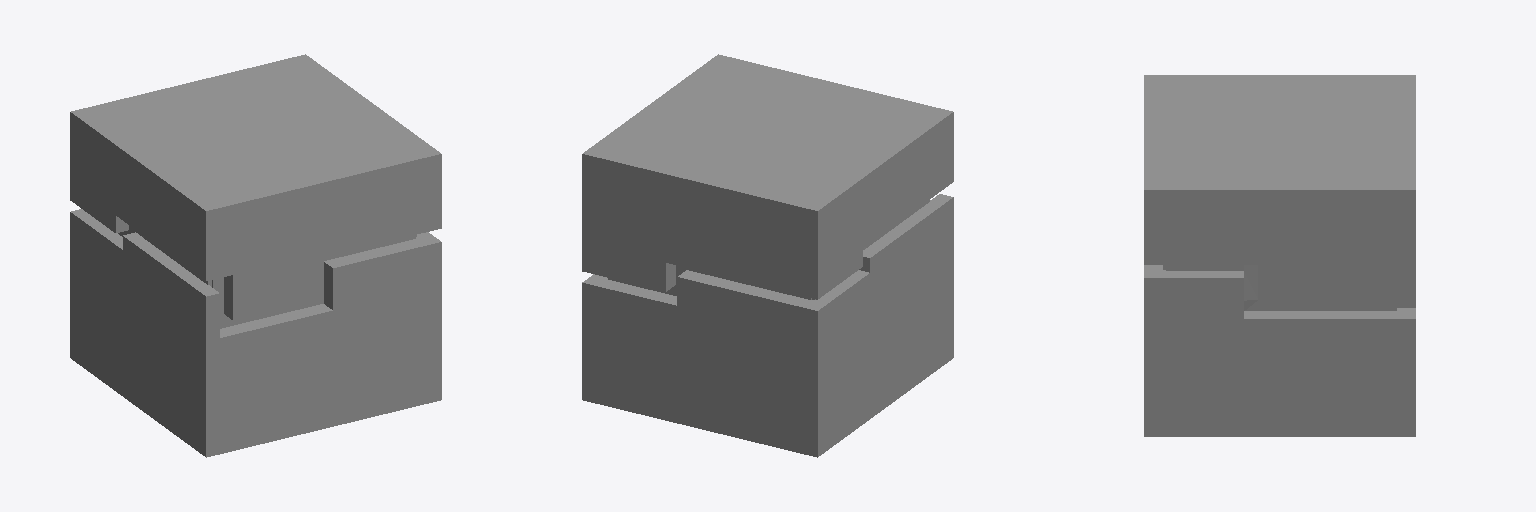
Rendered from magmaticstone.obj.
3 renders of one model, left to right at view 1: azimuth 30°, elevation 25°; view 2: azimuth 150°, elevation 25°; view 3: azimuth 270°, elevation 25°, orthographic.
Visible parts, largest first — view 1: Cube_Cube.005, Cube.002_Cube.007; view 2: Cube_Cube.005; view 3: Cube_Cube.005.
Part boxes in pixels (left/top/right/bottom): Cube_Cube.005: left=70, top=54, right=441, bottom=457; Cube.002_Cube.007: left=212, top=235, right=415, bottom=328; Cube_Cube.005: left=582, top=54, right=953, bottom=457; Cube_Cube.005: left=1144, top=75, right=1415, bottom=436.
Size of the model in its own units: 1 by 1 by 1.